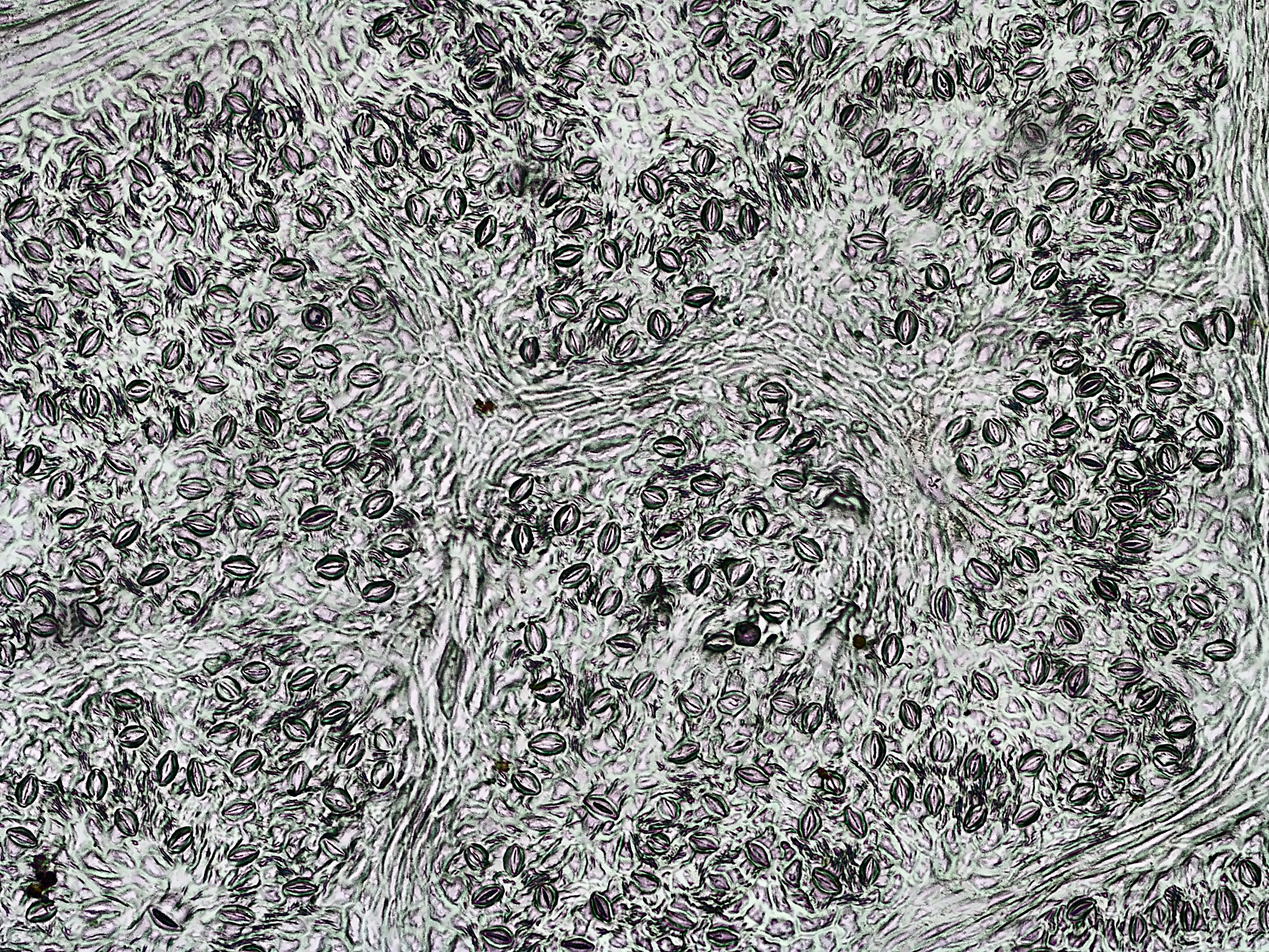stomata: (1012, 743, 1046, 777), (626, 667, 661, 700), (1136, 10, 1167, 45), (1146, 619, 1180, 650), (1104, 658, 1144, 684), (293, 506, 337, 529), (147, 903, 183, 931), (969, 670, 1001, 701), (635, 170, 664, 204), (1176, 322, 1210, 351), (752, 418, 791, 443), (214, 904, 258, 926), (473, 19, 503, 51), (1054, 614, 1086, 644), (533, 880, 561, 914), (550, 20, 588, 45), (808, 866, 843, 893), (524, 730, 565, 753), (187, 141, 213, 177), (894, 309, 920, 345), (162, 207, 194, 236), (338, 733, 366, 766), (968, 558, 1001, 586), (1043, 175, 1076, 203), (692, 21, 727, 47), (585, 794, 620, 820), (361, 493, 397, 518), (570, 153, 600, 183), (1072, 506, 1097, 542), (218, 90, 249, 119), (989, 150, 1018, 181), (1048, 470, 1079, 499), (552, 503, 580, 535), (651, 524, 683, 552), (628, 868, 660, 896), (284, 763, 311, 796), (588, 891, 615, 924), (1128, 207, 1161, 234), (312, 555, 349, 579), (23, 237, 57, 263), (857, 853, 882, 888), (900, 181, 935, 206), (1195, 408, 1224, 438), (80, 153, 111, 181), (346, 283, 378, 310), (660, 739, 696, 763), (844, 806, 871, 838), (928, 728, 955, 760), (889, 775, 915, 808), (294, 401, 329, 425), (325, 787, 355, 815), (463, 841, 493, 869), (605, 634, 647, 654), (600, 722, 630, 750), (862, 730, 886, 765), (1066, 3, 1093, 34), (180, 514, 218, 536), (268, 346, 304, 369), (320, 445, 356, 468), (738, 203, 761, 239), (221, 799, 257, 822), (5, 195, 38, 220), (881, 634, 906, 667), (700, 197, 724, 231), (206, 720, 240, 744), (1073, 373, 1107, 397), (172, 264, 200, 293), (557, 205, 585, 234), (754, 15, 781, 45), (294, 203, 325, 229), (1012, 547, 1043, 573), (891, 148, 922, 174), (1213, 311, 1239, 342), (1183, 592, 1214, 618), (1009, 803, 1040, 829), (244, 465, 279, 488), (367, 14, 402, 37), (109, 690, 144, 713), (113, 725, 148, 748), (1236, 857, 1259, 892), (375, 135, 400, 167), (406, 193, 431, 225), (14, 775, 39, 807), (1147, 100, 1179, 125), (268, 258, 306, 279), (66, 272, 102, 294), (24, 899, 57, 923), (127, 157, 154, 186), (595, 587, 624, 614), (325, 667, 354, 694), (1025, 215, 1052, 244), (1049, 348, 1083, 371), (1146, 179, 1180, 202), (252, 199, 278, 229), (472, 214, 498, 244), (115, 807, 141, 837), (1164, 716, 1194, 742), (174, 478, 211, 499), (8, 826, 39, 851), (230, 751, 261, 776), (346, 364, 381, 386), (1013, 380, 1048, 402), (102, 452, 134, 476), (810, 30, 834, 62), (524, 621, 547, 654), (45, 473, 73, 500), (689, 473, 725, 494), (727, 559, 754, 587), (961, 805, 988, 833), (1145, 374, 1181, 395), (1064, 667, 1092, 694), (597, 239, 623, 268), (677, 691, 706, 717), (985, 258, 1014, 284), (1188, 34, 1214, 63), (1, 571, 26, 601), (699, 792, 730, 816), (968, 60, 992, 91), (1062, 783, 1101, 802), (280, 877, 317, 897), (28, 612, 60, 635), (1106, 496, 1141, 517), (213, 417, 239, 445), (418, 145, 446, 171), (538, 677, 566, 703), (587, 688, 615, 714), (1129, 414, 1155, 442), (156, 752, 178, 785), (1092, 717, 1125, 739), (249, 302, 274, 331), (1030, 264, 1059, 289), (182, 81, 202, 117), (220, 557, 260, 575), (653, 436, 689, 456), (798, 807, 822, 837), (200, 325, 234, 346), (225, 845, 259, 866), (504, 843, 525, 877), (509, 770, 540, 793), (931, 68, 954, 99), (1096, 156, 1127, 179), (380, 534, 412, 556), (757, 382, 789, 404), (991, 609, 1013, 641), (493, 95, 520, 121), (611, 331, 638, 357), (990, 208, 1017, 234), (406, 93, 431, 121), (761, 597, 789, 622), (187, 759, 207, 794), (981, 418, 1009, 443), (31, 296, 55, 325), (302, 306, 331, 330), (690, 147, 714, 176), (565, 328, 589, 357), (511, 523, 535, 552), (310, 346, 343, 367), (470, 884, 503, 905), (936, 587, 957, 620), (73, 559, 103, 582), (559, 563, 589, 586), (743, 507, 766, 537), (959, 184, 982, 214), (1064, 894, 1094, 917), (1202, 641, 1238, 660), (924, 263, 950, 289), (1021, 121, 1047, 147), (1172, 152, 1198, 178), (254, 409, 281, 434), (216, 676, 243, 701), (743, 841, 770, 866), (899, 695, 920, 727), (663, 905, 695, 926), (901, 54, 922, 86), (79, 327, 102, 356), (647, 310, 670, 339), (851, 232, 888, 250), (121, 314, 154, 334), (599, 522, 621, 552), (704, 631, 734, 653), (1015, 23, 1045, 45), (1156, 444, 1178, 474), (172, 538, 203, 559), (548, 295, 579, 316), (1012, 59, 1043, 80), (160, 343, 186, 368), (655, 247, 681, 272), (112, 523, 139, 547), (519, 336, 543, 363), (538, 181, 565, 205), (168, 825, 192, 852), (287, 666, 314, 690), (284, 716, 308, 743), (735, 767, 771, 785), (748, 113, 782, 132), (480, 926, 514, 945), (925, 782, 944, 816), (137, 562, 165, 585), (1216, 888, 1236, 920), (704, 871, 733, 893), (1193, 449, 1222, 471), (551, 244, 581, 265), (1089, 297, 1126, 314), (81, 384, 100, 417), (721, 734, 754, 753), (1063, 747, 1088, 772), (406, 35, 432, 59), (791, 429, 815, 455), (945, 416, 971, 440), (1090, 197, 1114, 223), (1129, 349, 1153, 375), (452, 123, 475, 150), (730, 52, 753, 79), (446, 185, 466, 216), (683, 286, 714, 306), (774, 471, 805, 491), (87, 769, 107, 800), (1068, 70, 1099, 90), (641, 485, 669, 507), (771, 60, 799, 82), (319, 837, 347, 859), (506, 162, 524, 196), (464, 158, 493, 179), (600, 11, 629, 32), (362, 582, 394, 601), (698, 519, 730, 538), (1033, 89, 1065, 108), (1064, 117, 1096, 136), (172, 592, 202, 612), (509, 476, 533, 501), (688, 565, 708, 595), (469, 67, 499, 87), (1114, 460, 1144, 480), (352, 112, 378, 135), (1092, 577, 1118, 600), (1114, 752, 1137, 778), (705, 926, 738, 944), (997, 467, 1024, 489), (226, 150, 257, 169), (1119, 532, 1150, 551), (83, 191, 111, 212), (232, 507, 260, 528), (371, 760, 392, 788), (1113, 46, 1133, 75), (686, 834, 720, 851), (782, 153, 806, 177), (823, 772, 848, 795), (1154, 746, 1179, 769), (76, 601, 102, 623), (1112, 1, 1138, 23), (1125, 913, 1147, 939), (1051, 417, 1078, 438), (208, 284, 236, 304), (640, 565, 660, 593), (863, 64, 879, 99), (719, 692, 747, 712), (1089, 409, 1117, 429), (196, 375, 227, 393), (646, 833, 670, 856), (1134, 688, 1157, 712), (264, 109, 283, 138), (57, 507, 86, 526), (612, 55, 631, 84), (802, 703, 821, 732), (57, 223, 82, 245), (840, 103, 861, 129), (659, 796, 680, 822), (596, 303, 628, 320), (562, 934, 596, 950), (768, 692, 795, 712), (125, 380, 153, 399), (242, 661, 270, 680), (319, 703, 347, 722), (1121, 128, 1148, 147), (1153, 898, 1168, 932), (1150, 497, 1173, 519), (532, 138, 563, 154), (772, 645, 803, 661), (173, 407, 192, 433), (1077, 453, 1104, 471), (1209, 66, 1230, 89), (19, 445, 39, 469), (956, 450, 976, 474), (968, 750, 985, 778), (375, 728, 394, 753), (1178, 904, 1197, 928), (36, 395, 54, 420), (283, 145, 300, 171), (18, 330, 38, 352), (0, 639, 15, 668), (791, 536, 807, 562), (146, 422, 164, 445), (864, 130, 881, 154), (1026, 654, 1046, 673), (18, 381, 32, 406), (1165, 637, 1165, 641)
